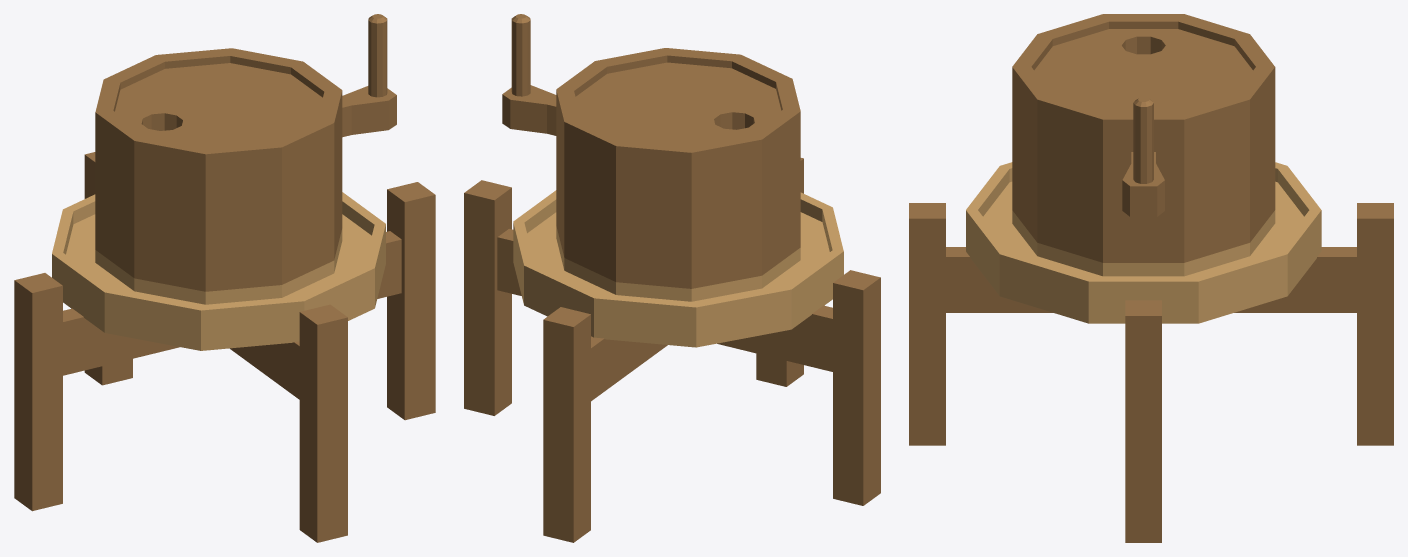
Rendered from FlourGrinder.glb.
3 views of the same model, side by side, from view 1: azimuth 30°, elevation 25°; view 2: azimuth 150°, elevation 25°; view 3: azimuth 270°, elevation 25° (orthographic). The views are drawn at different scales.
Parts seen in each view (by area): view 1: FlourGrinder_manivelle, FlourGrinder_pieds, FlourGrinder_support; view 2: FlourGrinder_manivelle, FlourGrinder_pieds, FlourGrinder_support; view 3: FlourGrinder_manivelle, FlourGrinder_pieds, FlourGrinder_support.
Part boxes in pixels (<box>): FlourGrinder_manivelle: <box>95,14,396,291</box>; FlourGrinder_pieds: <box>14,152,435,542</box>; FlourGrinder_support: <box>52,192,385,350</box>; FlourGrinder_manivelle: <box>502,14,800,288</box>; FlourGrinder_pieds: <box>464,158,880,542</box>; FlourGrinder_support: <box>513,190,843,347</box>; FlourGrinder_manivelle: <box>1012,14,1275,262</box>; FlourGrinder_pieds: <box>909,203,1393,542</box>; FlourGrinder_support: <box>966,162,1321,323</box>.
Bounding box in the file's own units: 1.08 × 1.03 × 1.08.
